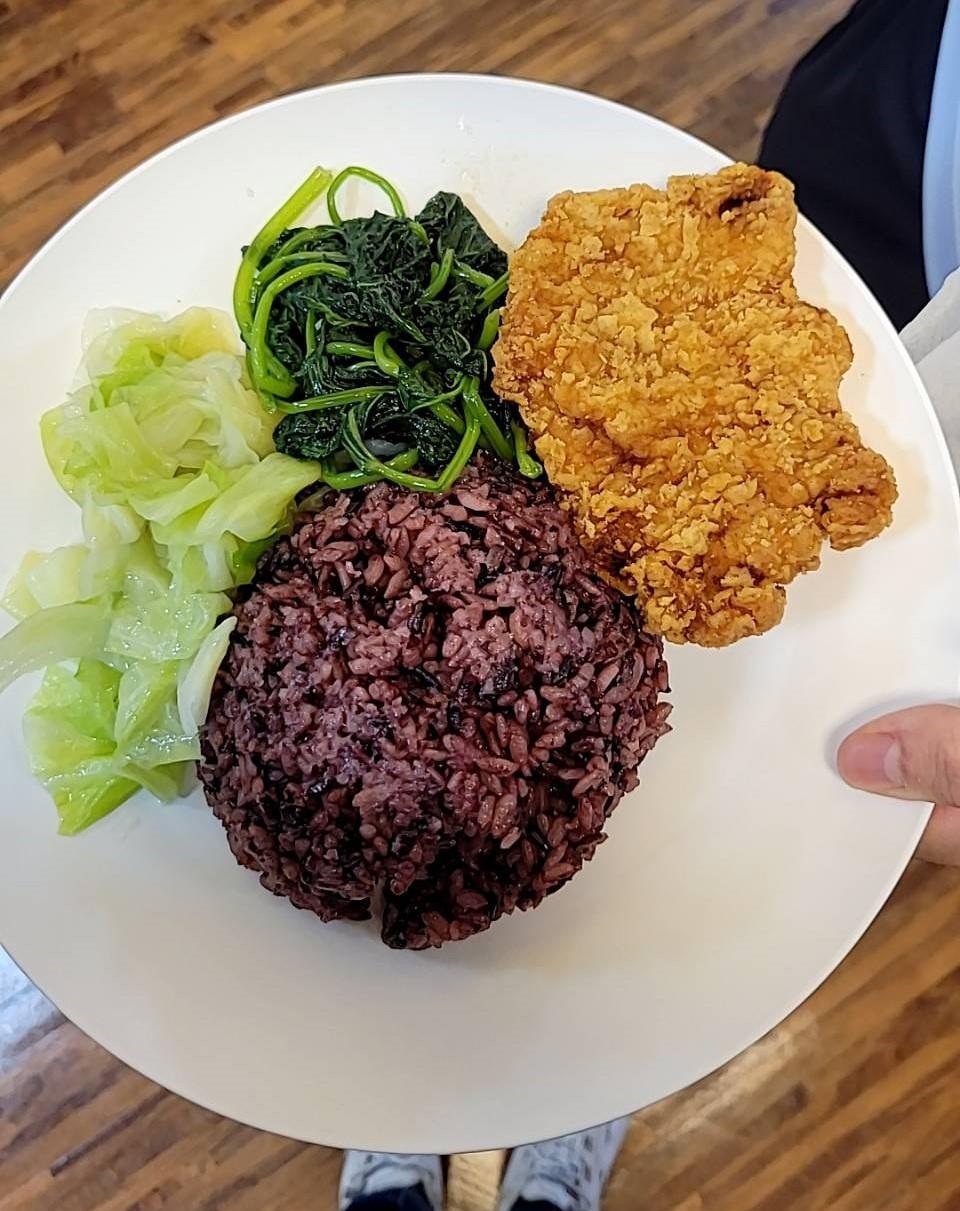big fried chicken leg: (11, 63, 960, 1173)
braised fish: (193, 463, 672, 967)
braised fish fillet: (36, 306, 301, 847), (223, 193, 549, 492)
braised pork: (485, 148, 902, 649)
